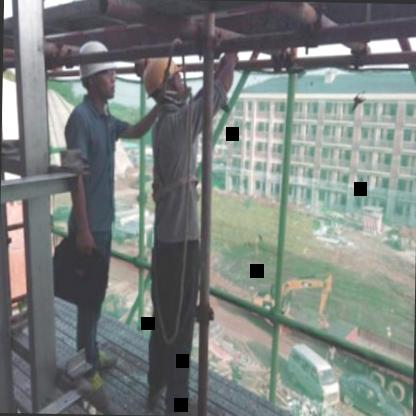helmet: (72, 35, 122, 98), (138, 55, 188, 108)
